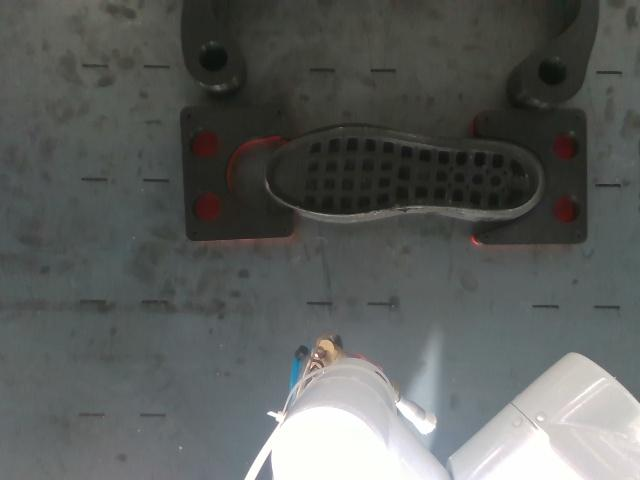shoes: (266, 127, 540, 215)
